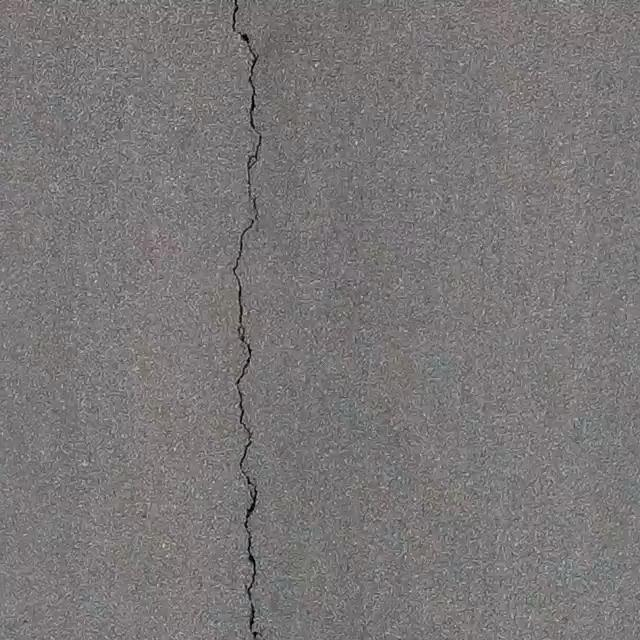GRIETA: (231, 0, 262, 639)
